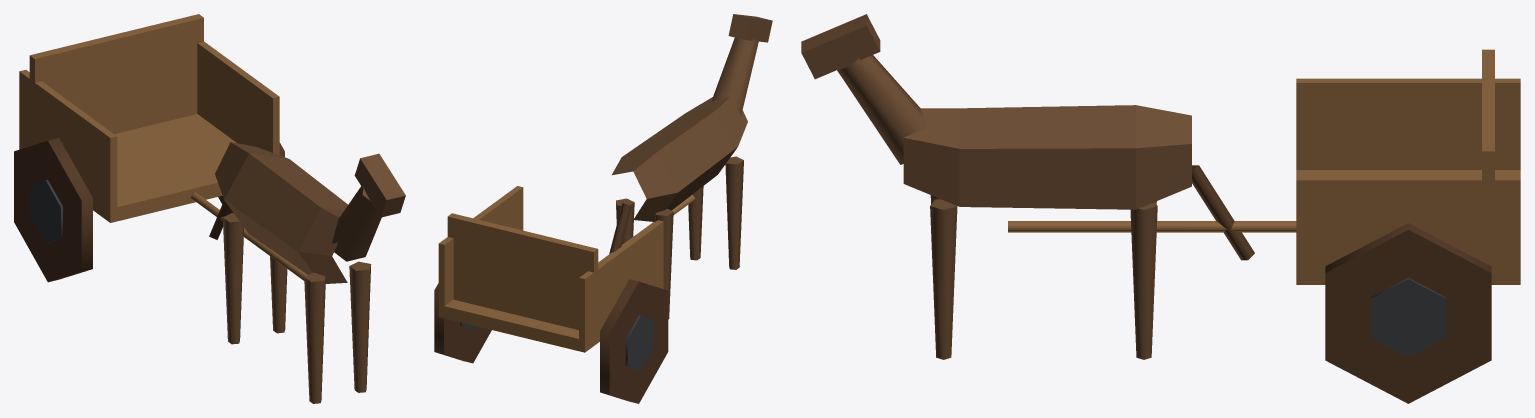
File: veh_ground_chariot_a01_lod1.glb
The picture shows the model from 3 angles, left to right: view 1: azimuth 30°, elevation 25°; view 2: azimuth 150°, elevation 25°; view 3: azimuth 270°, elevation 25°; orthographic projection. The views are drawn at different scales.
Parts seen in each view (by area): view 1: body, animal_0, wheel_0; view 2: body, animal_0, wheel_0, wheel_1; view 3: body, animal_0, wheel_1.
Boxes of the visible parts, bbox=[...] form: body: bbox=[19, 14, 307, 280]; animal_0: bbox=[209, 142, 405, 403]; wheel_0: bbox=[14, 138, 92, 282]; body: bbox=[438, 186, 695, 352]; animal_0: bbox=[609, 14, 772, 319]; wheel_0: bbox=[600, 279, 668, 403]; wheel_1: bbox=[434, 283, 491, 363]; body: bbox=[1008, 49, 1520, 284]; animal_0: bbox=[801, 14, 1254, 359]; wheel_1: bbox=[1325, 223, 1491, 403].
Size of the model in its own units: 1.84 by 2.23 by 4.49.
